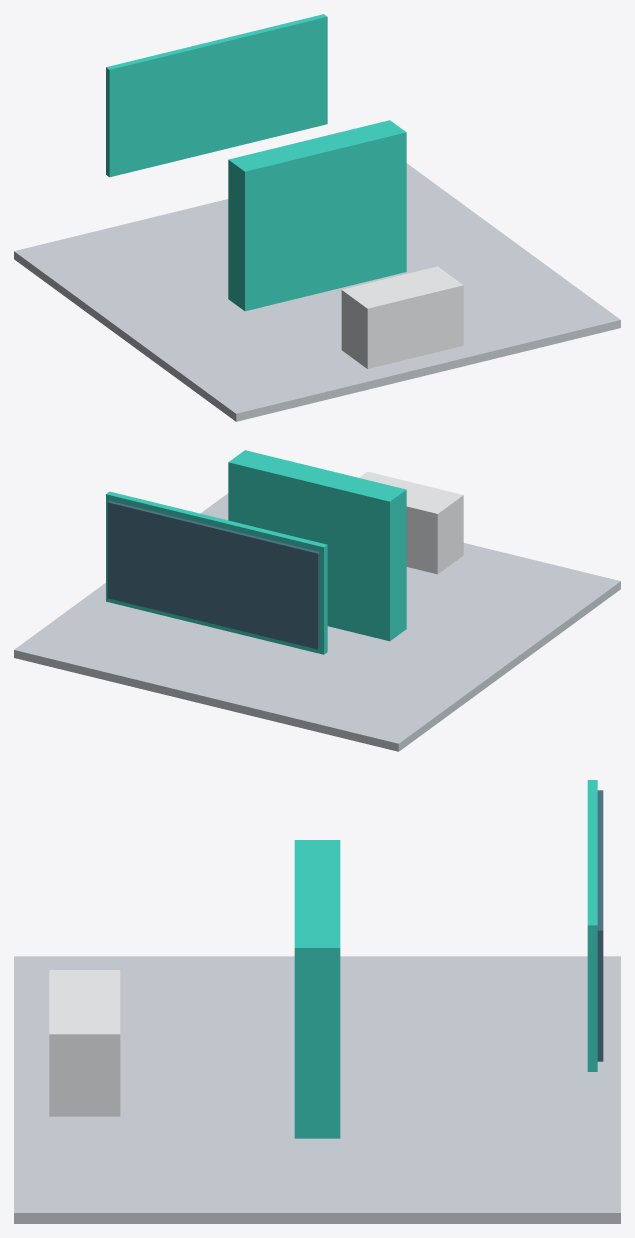
3 views of the same model, one above another, from view 1: azimuth 30°, elevation 25°; view 2: azimuth 150°, elevation 25°; view 3: azimuth 270°, elevation 25° (orthographic). The views are drawn at different scales.
Parts seen in each view (by area): view 1: Exhibition Booth Concept; view 2: Exhibition Booth Concept; view 3: Exhibition Booth Concept.
Part boxes in pixels (x1,y1,x2,y2): Exhibition Booth Concept: (14,14,620,421); Exhibition Booth Concept: (14,450,620,751); Exhibition Booth Concept: (14,780,620,1223).
Bounding box in the file's own units: 6 × 2.65 × 6.
